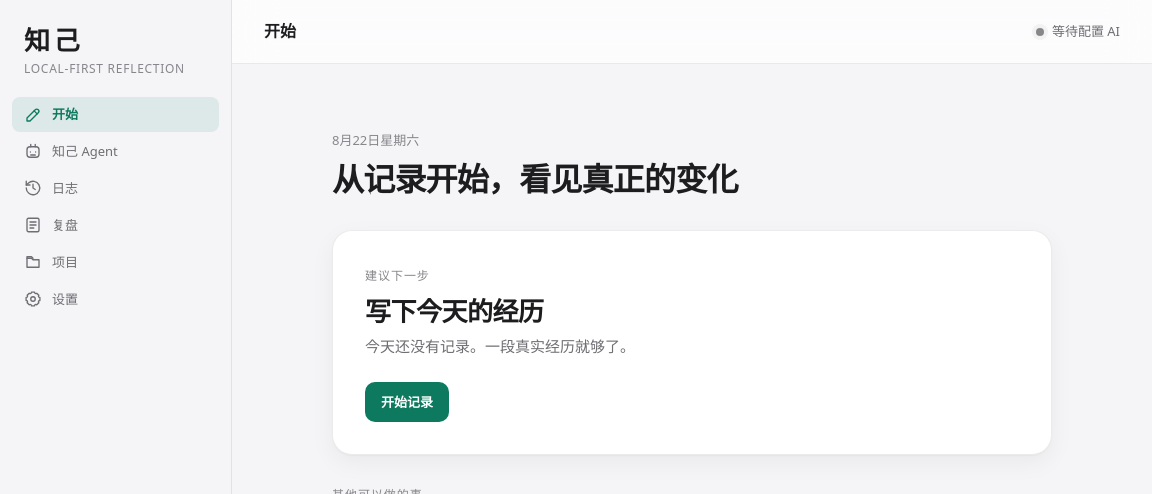
Test: App › navigates across the product pages
Expected: the heading "写下今天的经历" is shown, [365,292,543,328]
What coordinates should you click on to do the following:
click the button "日志"
I would click on:
 (116, 188)
Its box is [12,171,219,206].
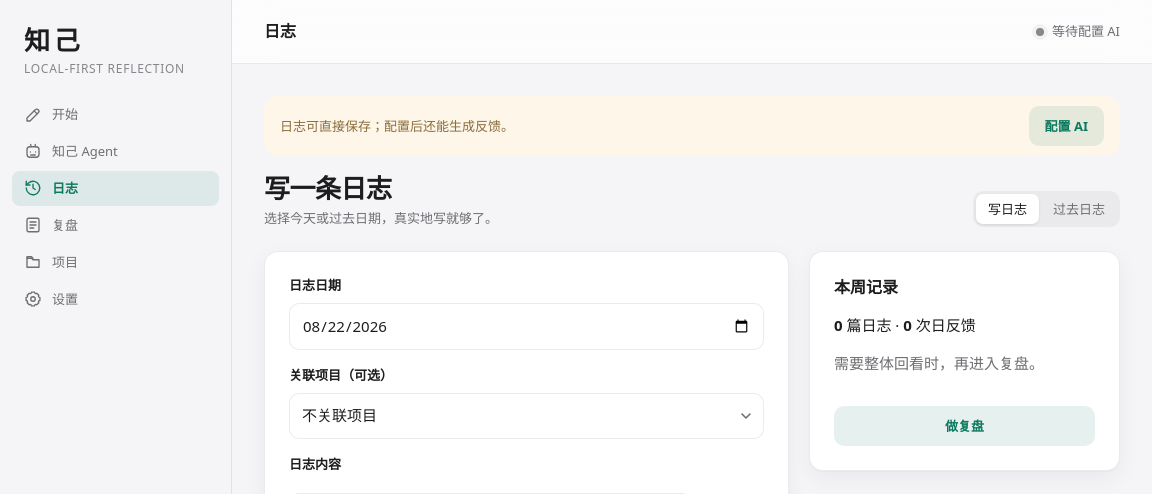
Result: the heading "写一条日志" is shown at [264,170,391,206]
What coordinates should you click on to do the following:
click the button "复盘"
I would click on:
 (116, 225)
Its box is [12,208,219,243].
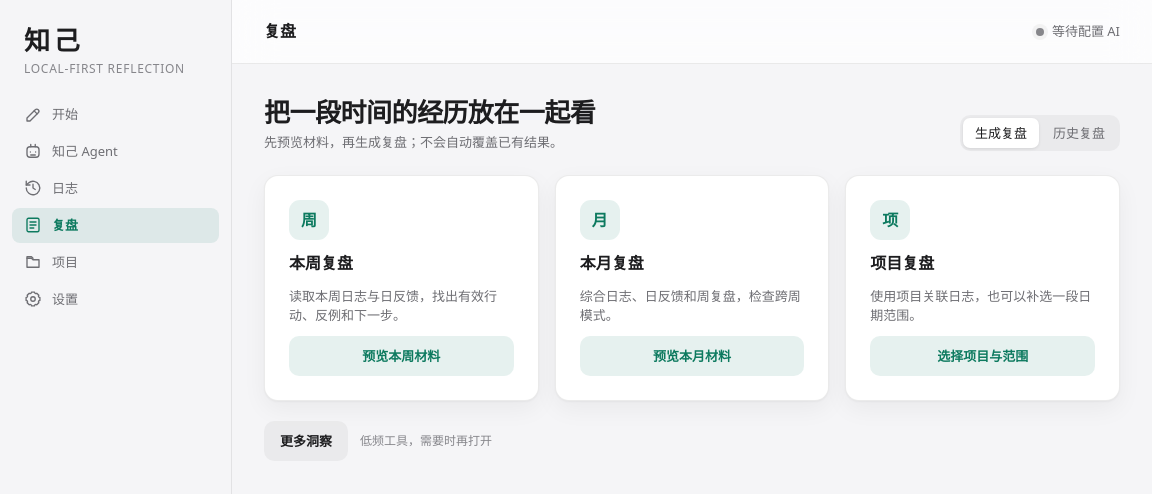
Result: the heading "把一段时间的经历放在一起看" is shown at [264,96,595,128]
What coordinates should you click on to do the following:
click the button "项目"
I would click on:
 (116, 262)
Its box is [12,245,219,280].
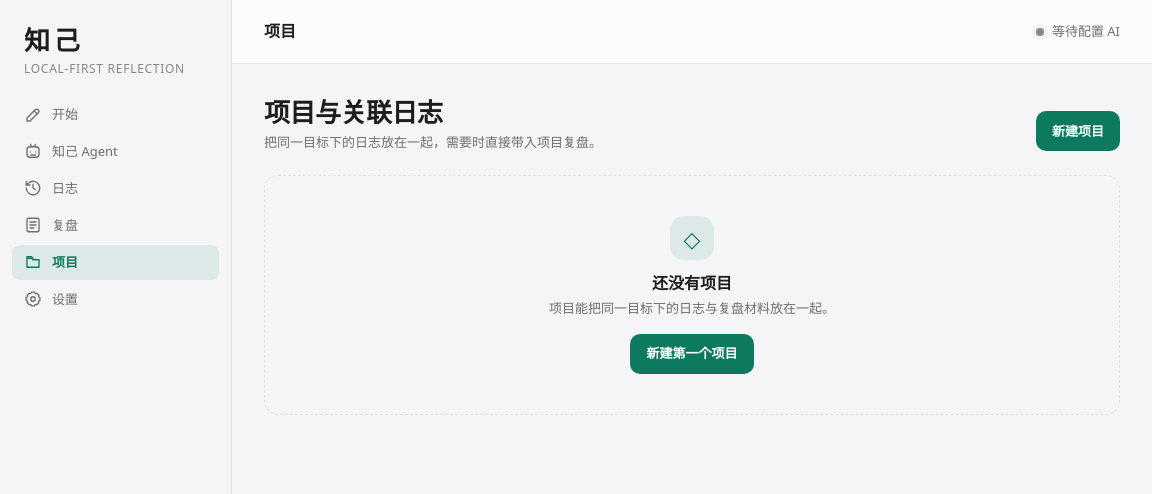
Result: the heading "项目与关联日志" is shown at [264,94,442,130]
What coordinates should you click on to do the following:
click the button "设置"
I would click on:
 (116, 299)
Its box is [12,282,219,316].
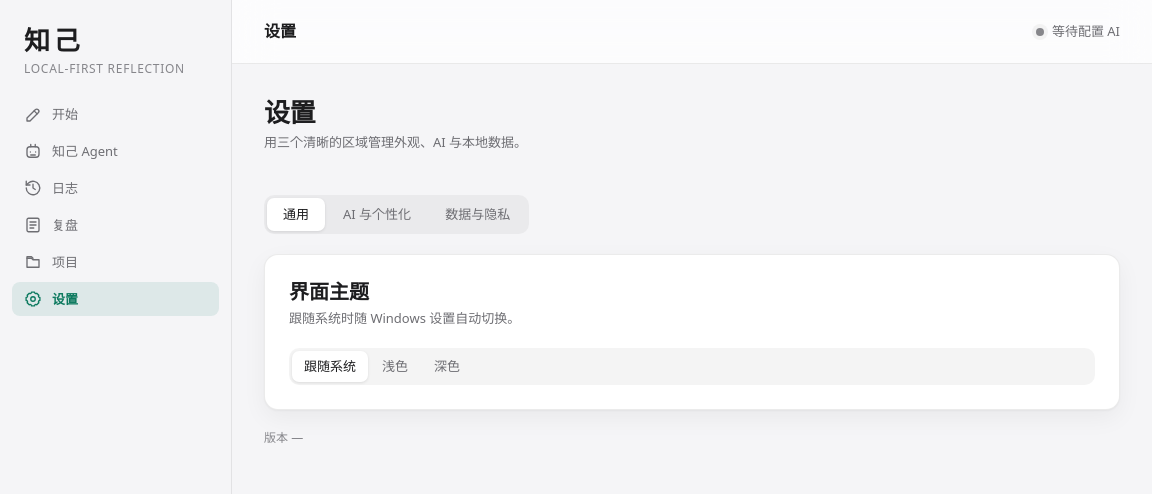
Result: the 2nd heading "设置" is shown at [264,94,315,130]
What coordinates should you click on to do the following:
click the button "知己 Agent"
I would click on:
 (116, 152)
Its box is [12,134,219,169].
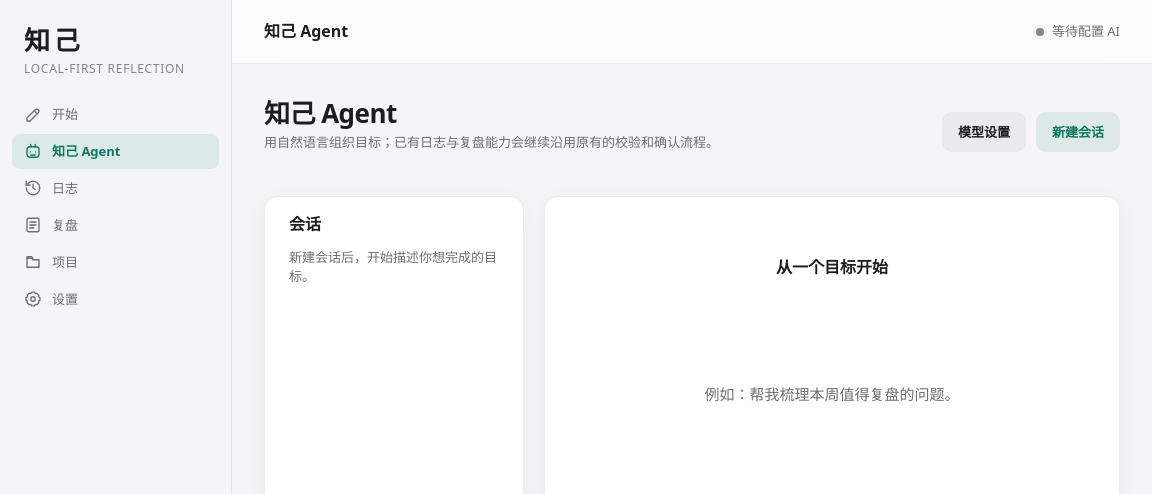
Result: the 2nd heading "知己 Agent" is shown at [264,95,397,131]
